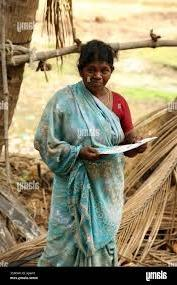Human: (38, 22, 144, 268)
